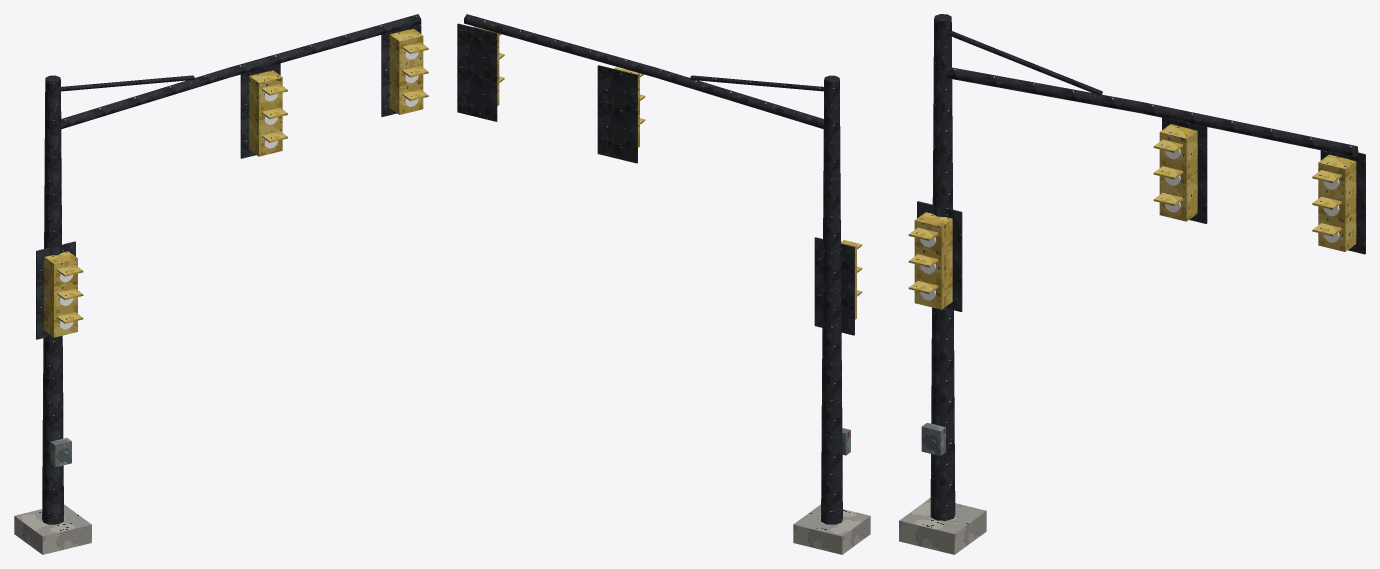
Rendered from SP_TrafficLight_MastArm.obj.
3 views of the same model, side by side, from view 1: azimuth 30°, elevation 25°; view 2: azimuth 150°, elevation 25°; view 3: azimuth 330°, elevation 25° (orthographic). The views are drawn at different scales.
Visible parts, largest first — view 1: SP_TrafficLight_MastArm_Mesh_M_Town_PaintBlack, SP_TrafficLight_MastArm_Mesh_M_Town_PaintYellow, SP_TrafficLight_MastArm_Mesh_M_Road_CurbConcrete, SP_TrafficLight_MastArm_Mesh_M_Com_SignageBacking; view 2: SP_TrafficLight_MastArm_Mesh_M_Town_PaintBlack, SP_TrafficLight_MastArm_Mesh_M_Road_CurbConcrete, SP_TrafficLight_MastArm_Mesh_M_Town_PaintYellow; view 3: SP_TrafficLight_MastArm_Mesh_M_Town_PaintBlack, SP_TrafficLight_MastArm_Mesh_M_Town_PaintYellow, SP_TrafficLight_MastArm_Mesh_M_Road_CurbConcrete, SP_TrafficLight_MastArm_Mesh_M_Com_SignageBacking.
Part boxes in pixels (box(x1,y1,x2,y2)): SP_TrafficLight_MastArm_Mesh_M_Town_PaintBlack: box(36, 14, 421, 524); SP_TrafficLight_MastArm_Mesh_M_Town_PaintYellow: box(44, 28, 428, 337); SP_TrafficLight_MastArm_Mesh_M_Road_CurbConcrete: box(14, 504, 91, 554); SP_TrafficLight_MastArm_Mesh_M_Com_SignageBacking: box(50, 438, 71, 467); SP_TrafficLight_MastArm_Mesh_M_Town_PaintBlack: box(457, 14, 854, 524); SP_TrafficLight_MastArm_Mesh_M_Road_CurbConcrete: box(793, 504, 870, 554); SP_TrafficLight_MastArm_Mesh_M_Town_PaintYellow: box(473, 26, 862, 319); SP_TrafficLight_MastArm_Mesh_M_Town_PaintBlack: box(917, 14, 1365, 520); SP_TrafficLight_MastArm_Mesh_M_Town_PaintYellow: box(908, 124, 1356, 309); SP_TrafficLight_MastArm_Mesh_M_Road_CurbConcrete: box(899, 498, 986, 554); SP_TrafficLight_MastArm_Mesh_M_Com_SignageBacking: box(921, 422, 945, 455).
Bounding box in the file's own units: 5.63 × 6.25 × 0.87.
7 materials, 4 textured.
